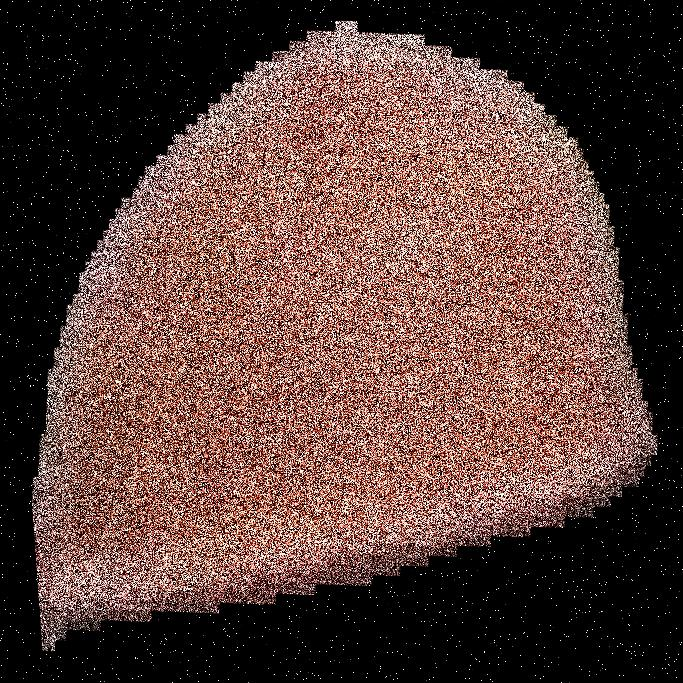Capacete: (184, 0, 491, 682)
